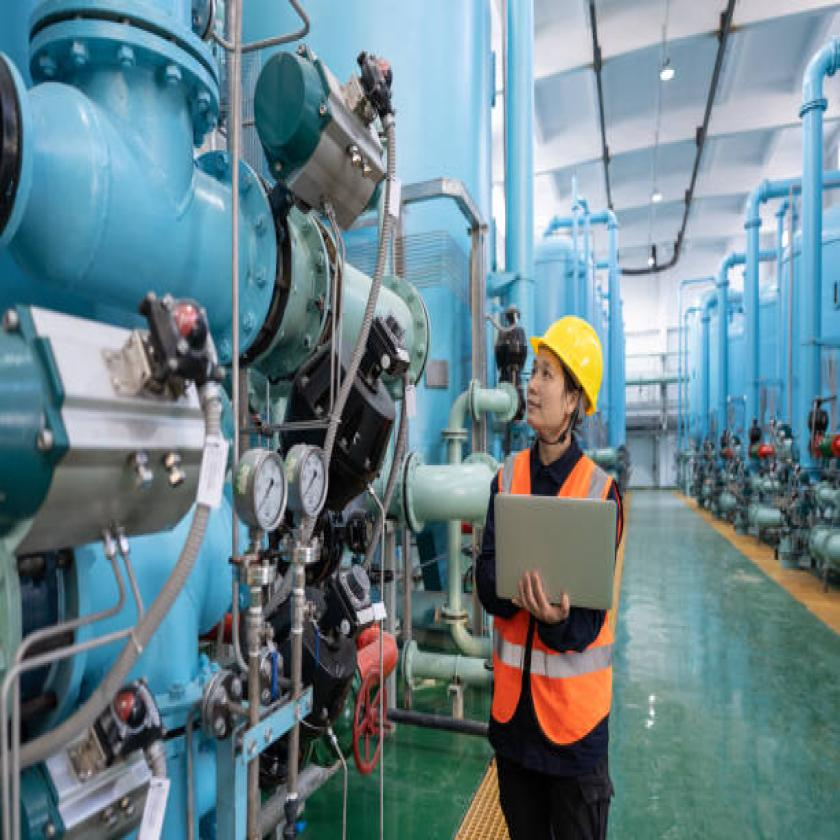Con_casco: (522, 315, 610, 455)
